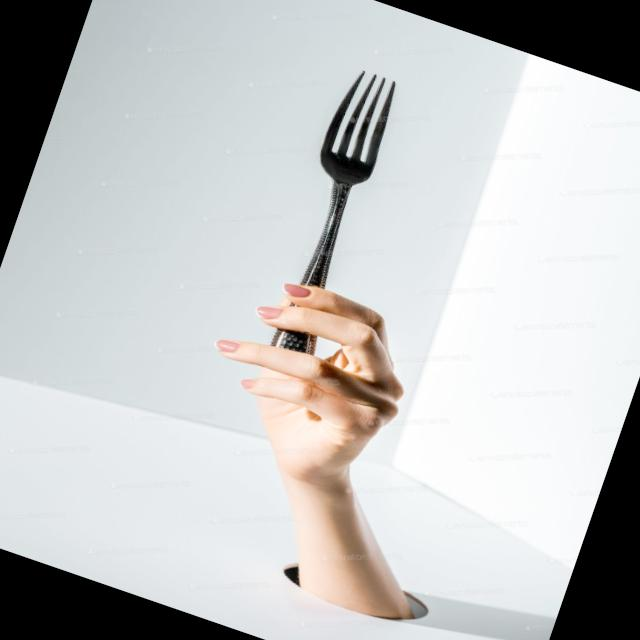fork: (245, 62, 408, 378)
